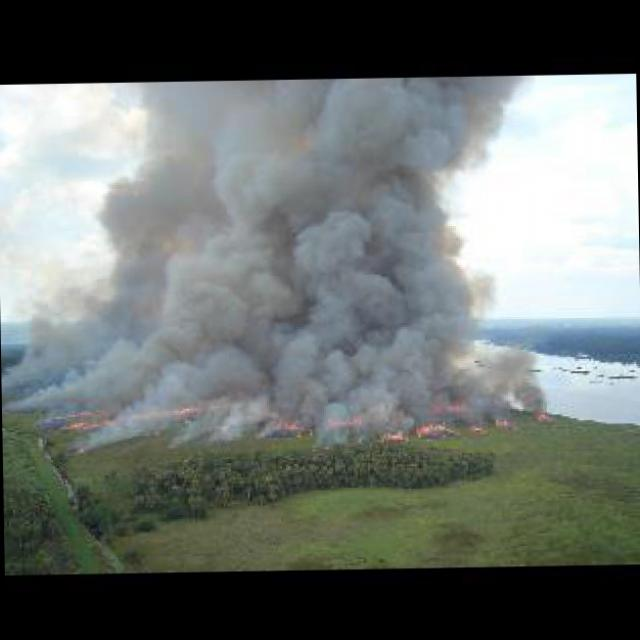fire: (60, 402, 195, 421), (269, 418, 310, 439), (416, 420, 453, 441), (379, 428, 410, 444), (324, 413, 361, 426), (438, 402, 467, 412), (467, 422, 486, 434), (496, 417, 512, 430), (144, 428, 163, 438), (534, 412, 549, 422), (85, 357, 104, 363), (76, 444, 86, 452), (266, 411, 276, 415)
smoke: (1, 73, 550, 413)
